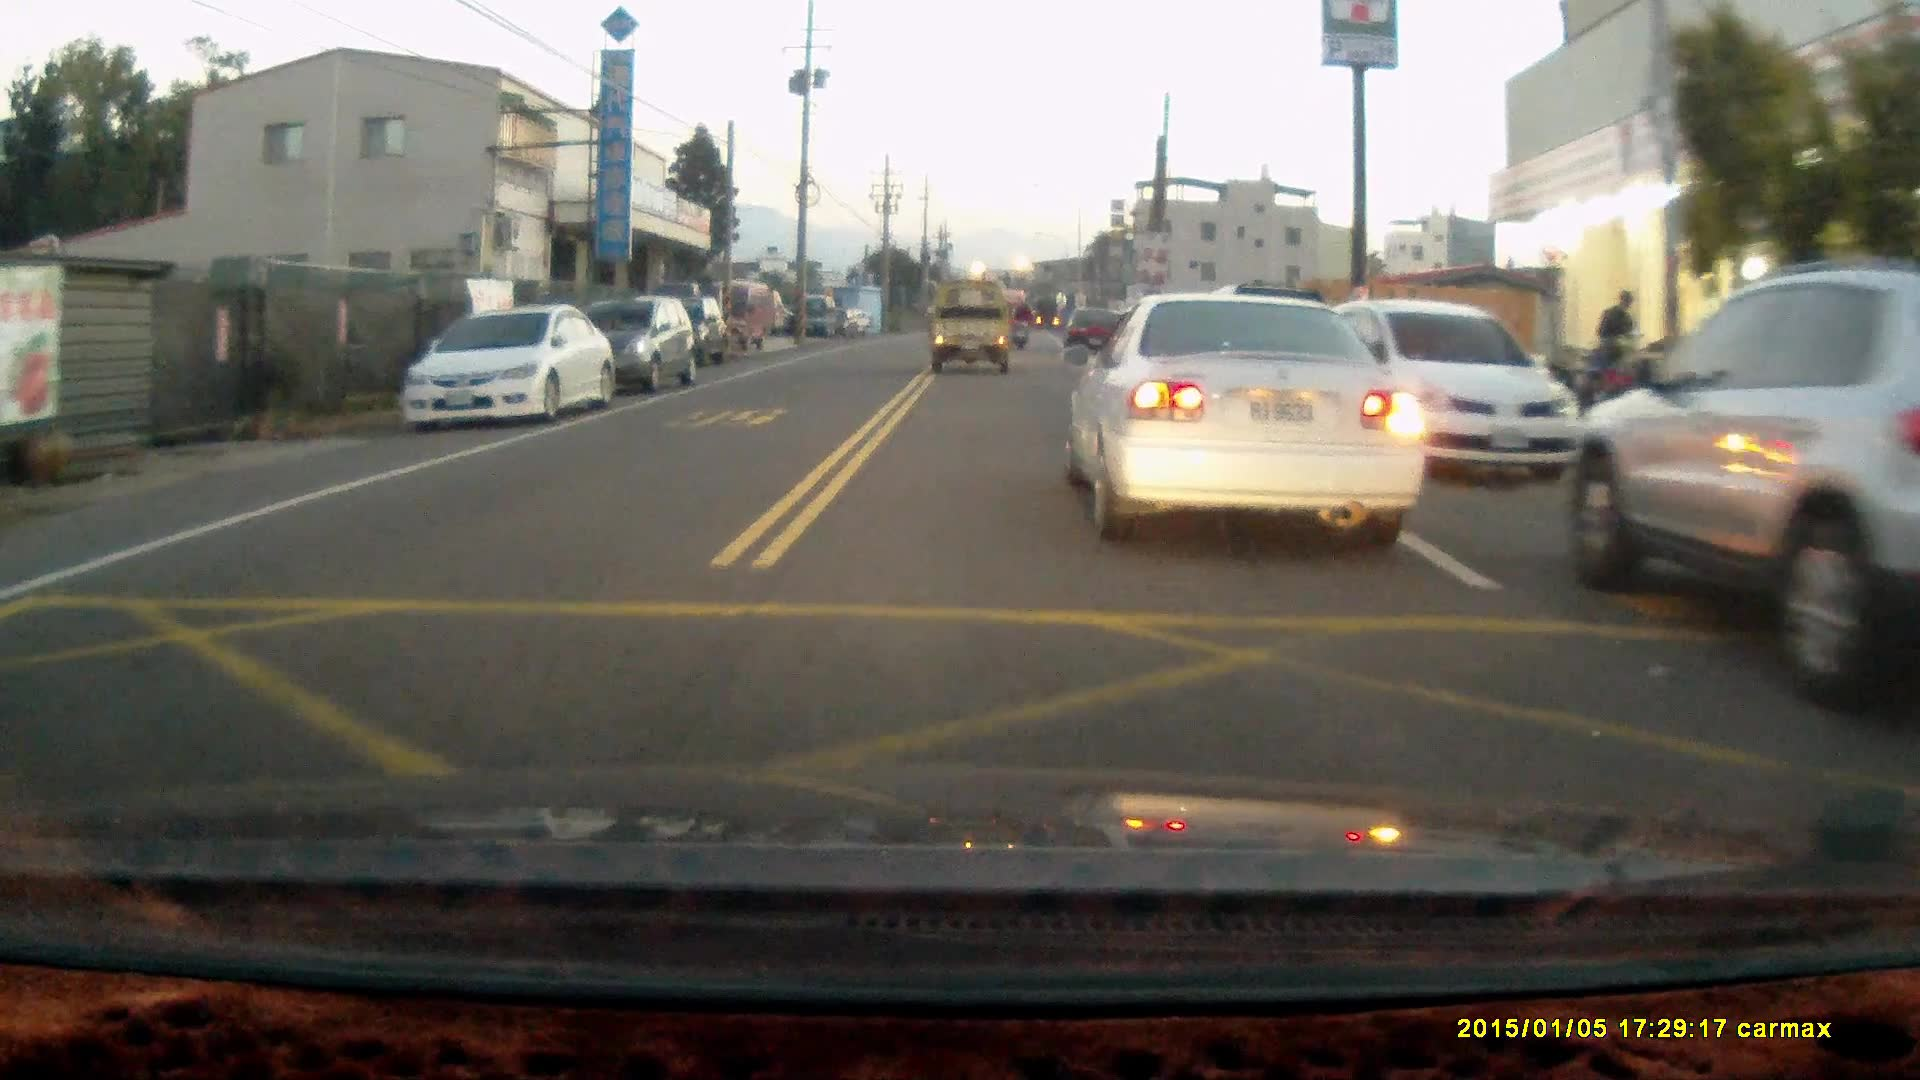pedestrian: (1592, 287, 1637, 394)
rider: (1008, 302, 1034, 350)
vehicle: (1570, 263, 1920, 722), (1074, 280, 1421, 533), (1310, 289, 1586, 480), (403, 290, 618, 423), (562, 288, 702, 393), (628, 274, 734, 363), (931, 272, 1018, 369), (715, 277, 778, 350), (1060, 303, 1124, 353)
